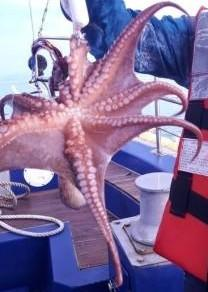Cephalopod: (0, 1, 203, 291)
